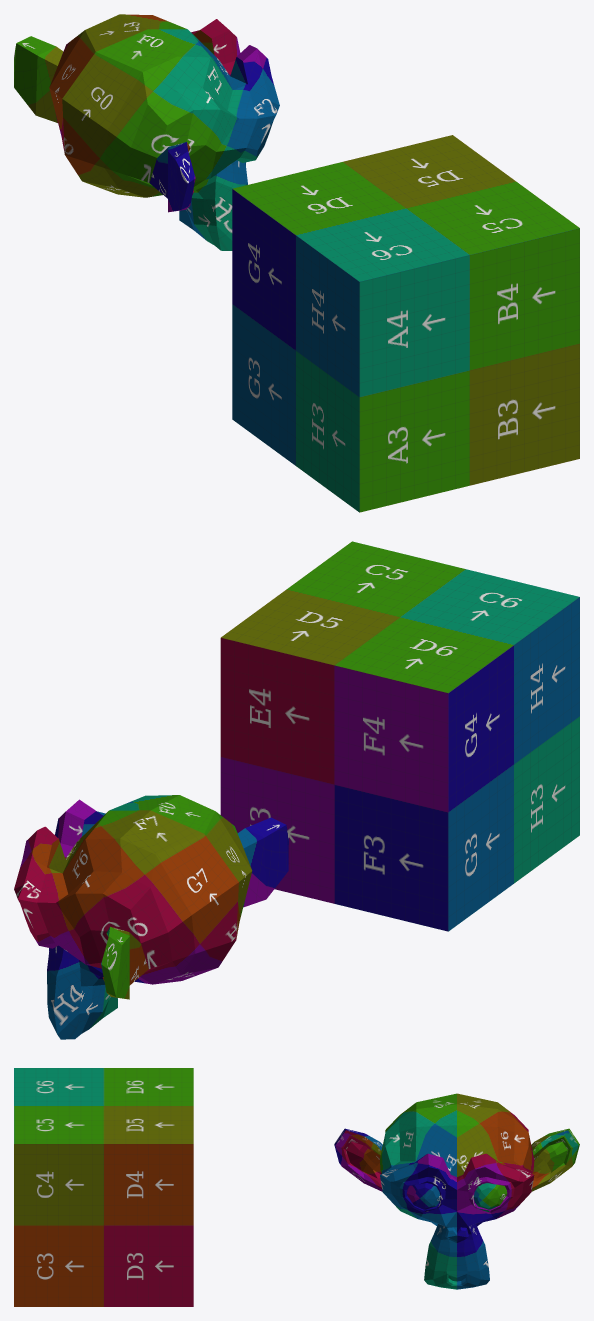
File: uv_check.glb
3 views of the same model, one above another, from view 1: azimuth 30°, elevation 25°; view 2: azimuth 150°, elevation 25°; view 3: azimuth 270°, elevation 25° (orthographic). The views are drawn at different scales.
Parts seen in each view (by area): view 1: Cube.001, Suzanne; view 2: Cube.001, Suzanne; view 3: Cube.001, Suzanne.
Part boxes in pixels (<box>): Cube.001: <box>232,135,579,512</box>; Suzanne: <box>14,14,279,250</box>; Cube.001: <box>220,541,579,931</box>; Suzanne: <box>14,795,288,1039</box>; Cube.001: <box>14,1068,193,1306</box>; Suzanne: <box>334,1093,579,1289</box>.
Size of the model in its own units: 2 by 2 by 6.3.
Materials: 1 (1 with a texture image).
